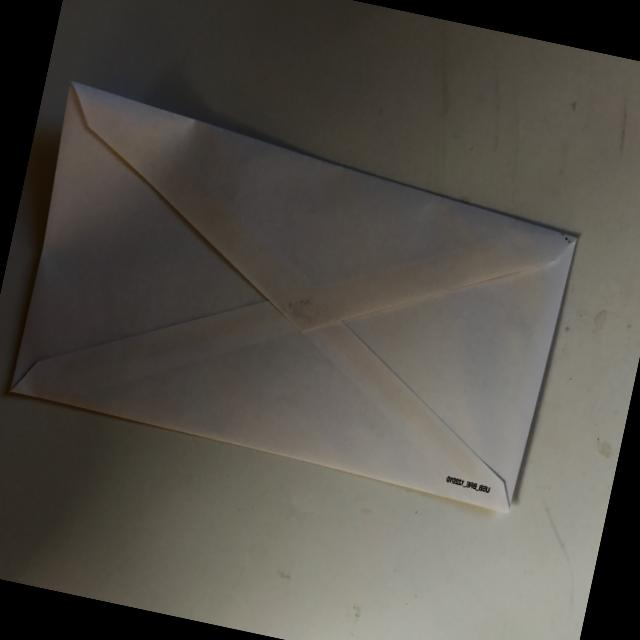Paper: (0, 68, 598, 524)
